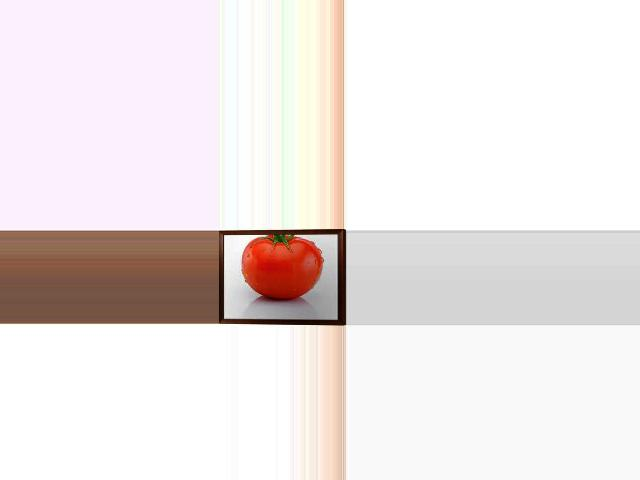tomato: (242, 234, 323, 300)
